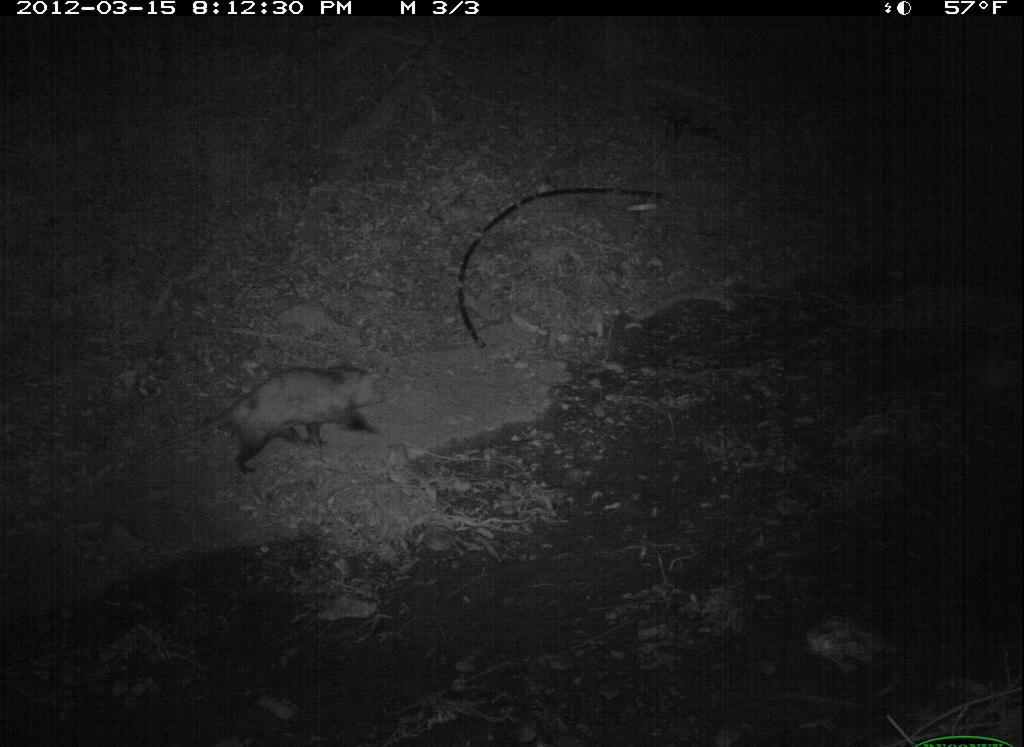opossum: (191, 350, 393, 481)
